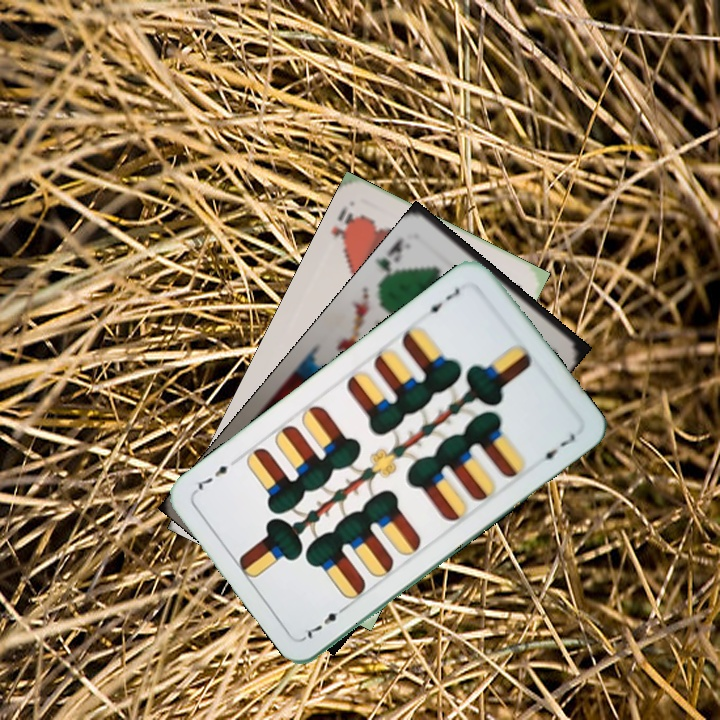E7: (300, 600, 351, 642), (419, 284, 463, 318)
GK: (374, 233, 406, 283)
HO: (327, 201, 363, 248)
